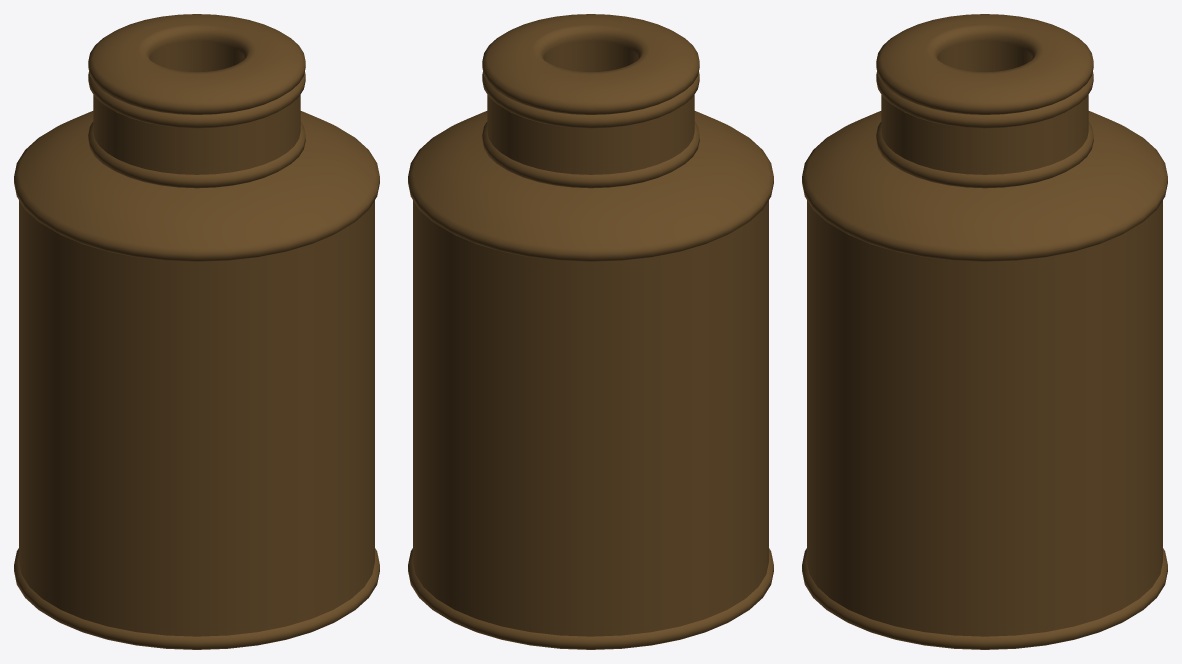
Rendered from Vase3.fbx.
The picture shows the model from 3 angles, left to right: view 1: azimuth 30°, elevation 25°; view 2: azimuth 150°, elevation 25°; view 3: azimuth 270°, elevation 25°; orthographic projection.
Parts seen in each view (by area): view 1: SM_Vase3_01; view 2: SM_Vase3_01; view 3: SM_Vase3_01.
Boxes of the visible parts, <box> form: SM_Vase3_01: <box>14,14,379,649</box>; SM_Vase3_01: <box>408,14,773,649</box>; SM_Vase3_01: <box>802,14,1167,649</box>.
Bounding box in the file's own units: 10.76 × 17.05 × 10.76.
